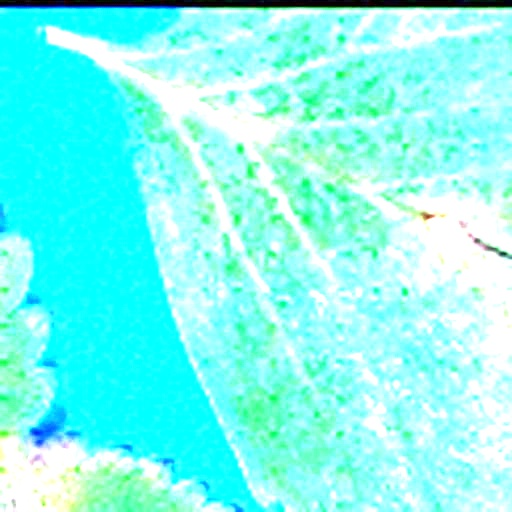Leaf Spot: (85, 9, 511, 511)
